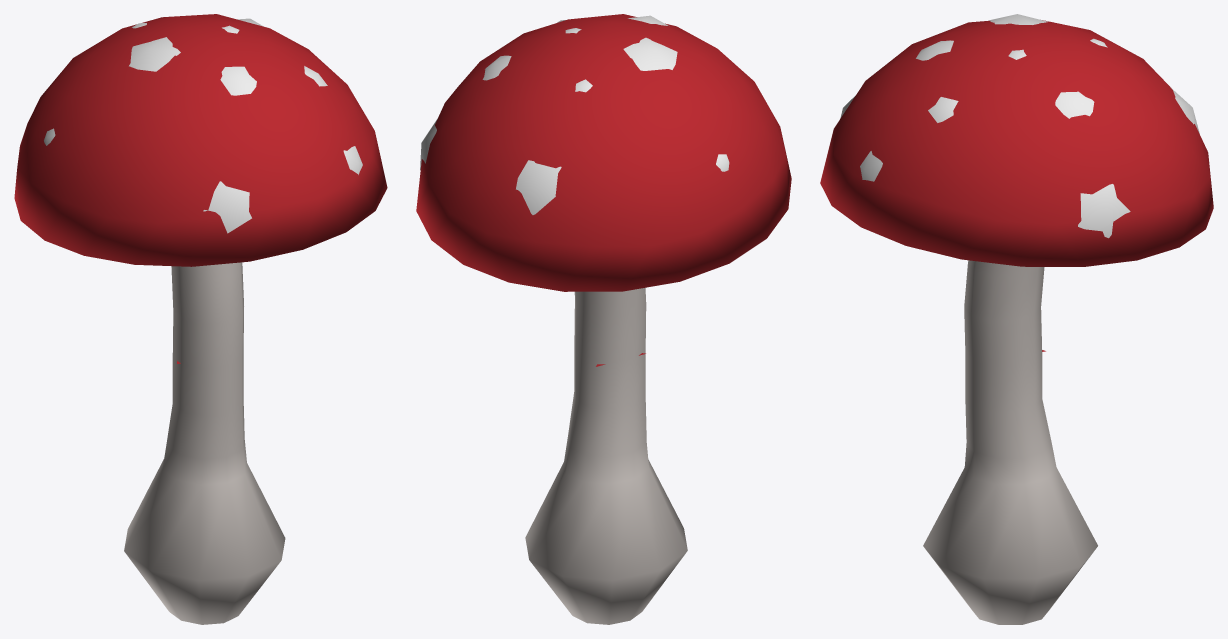
The model's file is Amanita_big.fbx.
3 renders of one model, left to right at view 1: azimuth 30°, elevation 25°; view 2: azimuth 150°, elevation 25°; view 3: azimuth 270°, elevation 25°, orthographic.
Parts seen in each view (by area): view 1: Amanita_big; view 2: Amanita_big; view 3: Amanita_big.
Boxes of the visible parts, left/top/right/bottom form: Amanita_big: left=14, top=14, right=387, bottom=624; Amanita_big: left=416, top=14, right=791, bottom=624; Amanita_big: left=820, top=14, right=1213, bottom=624.
Bounding box in the file's own units: 15.1 × 26 × 16.14.
